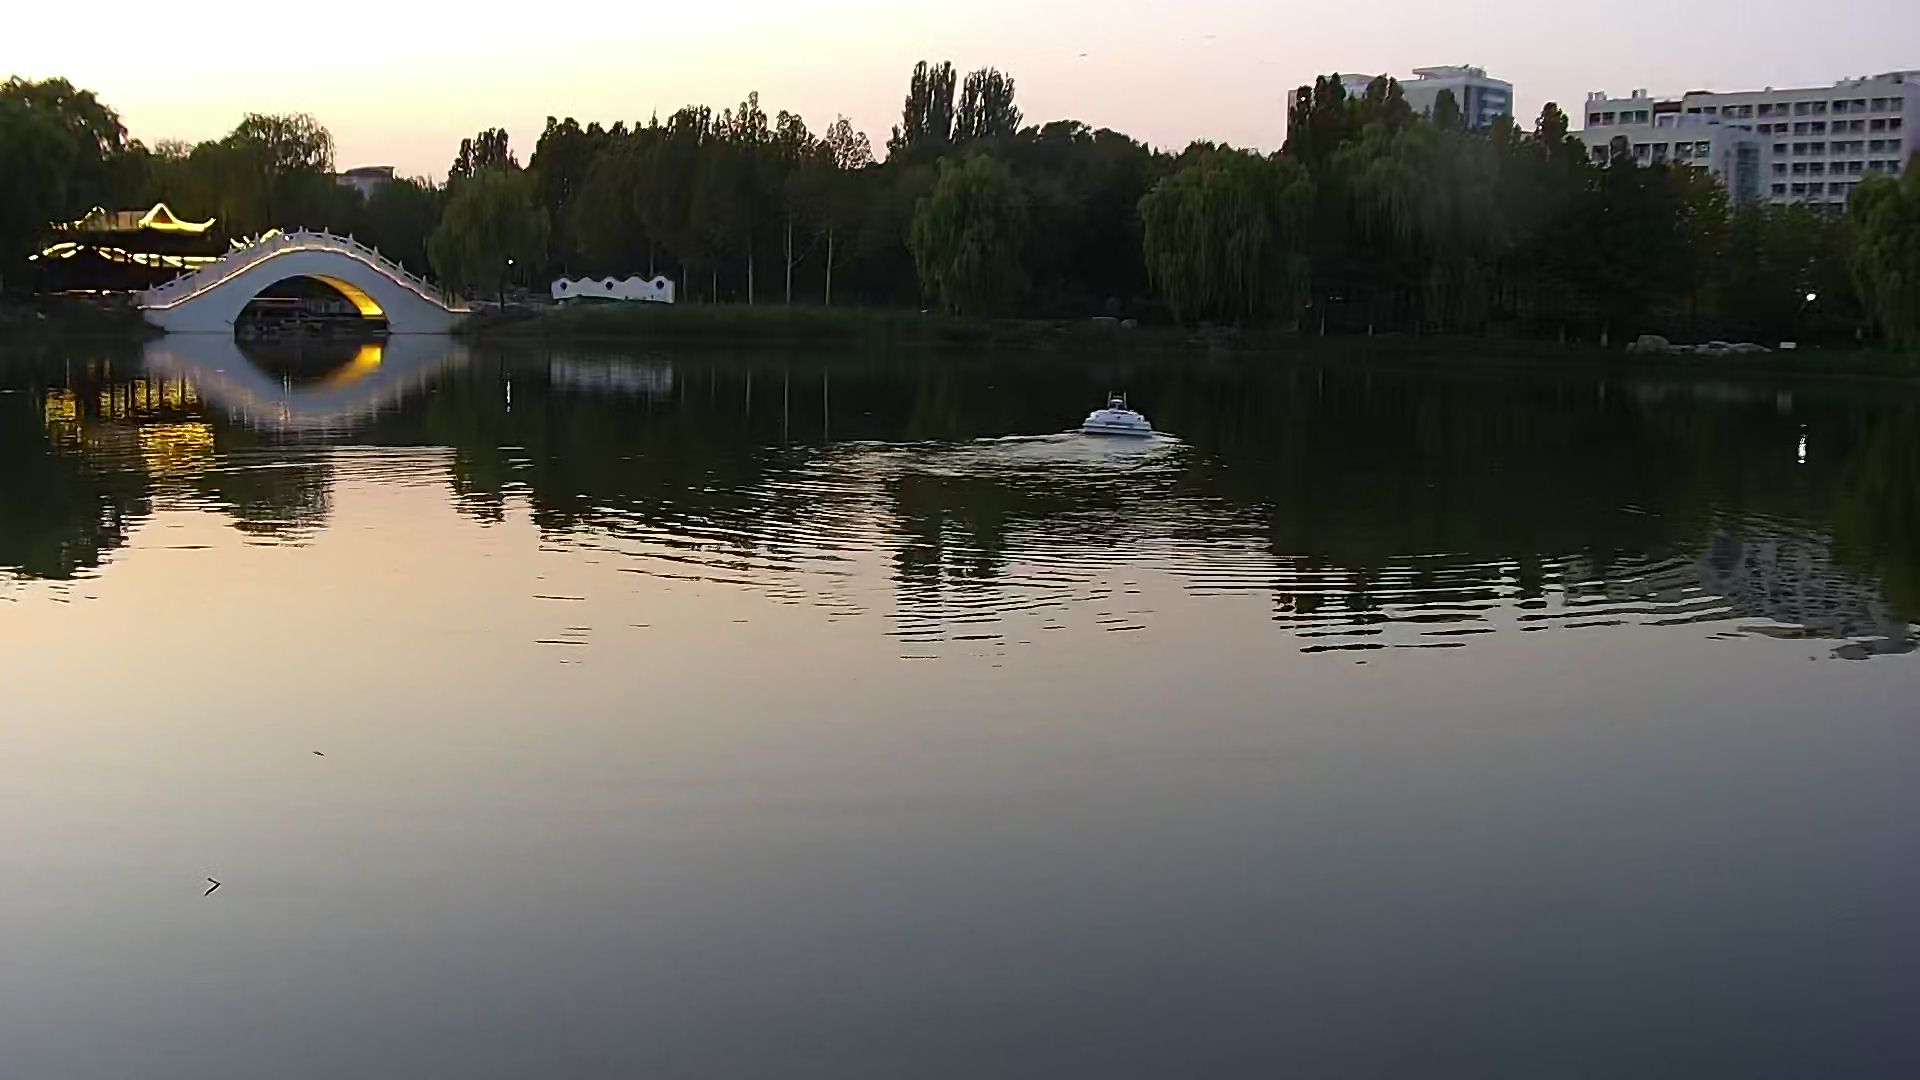boat: (1083, 396, 1150, 438)
bridge: (129, 233, 458, 334)
